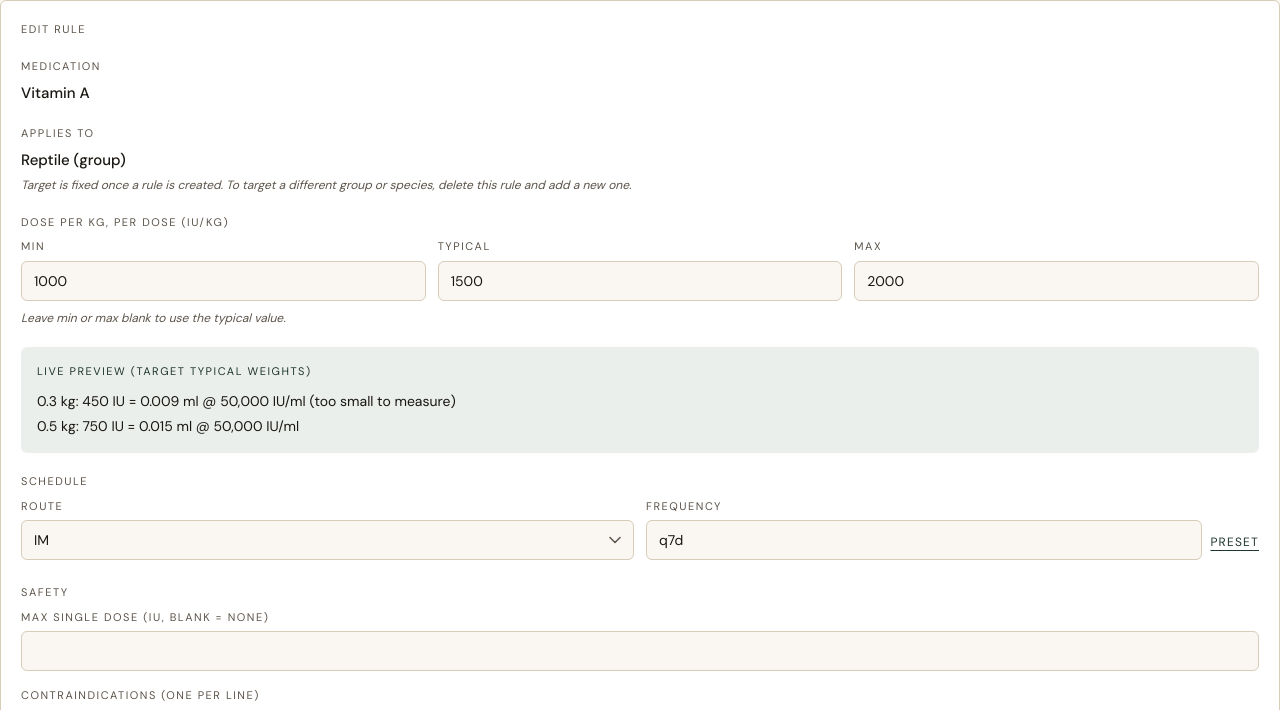
Test: RuleEditor - fields (moved from RulesTab) › rejects unparseable Max instead of saving it as typical
This screenshot has width=1280, height=710.
Replace the text in the field labelled "Max" with "2,000" at point(1057, 280), box 854,260 -> 1259,300
(page scrolled)
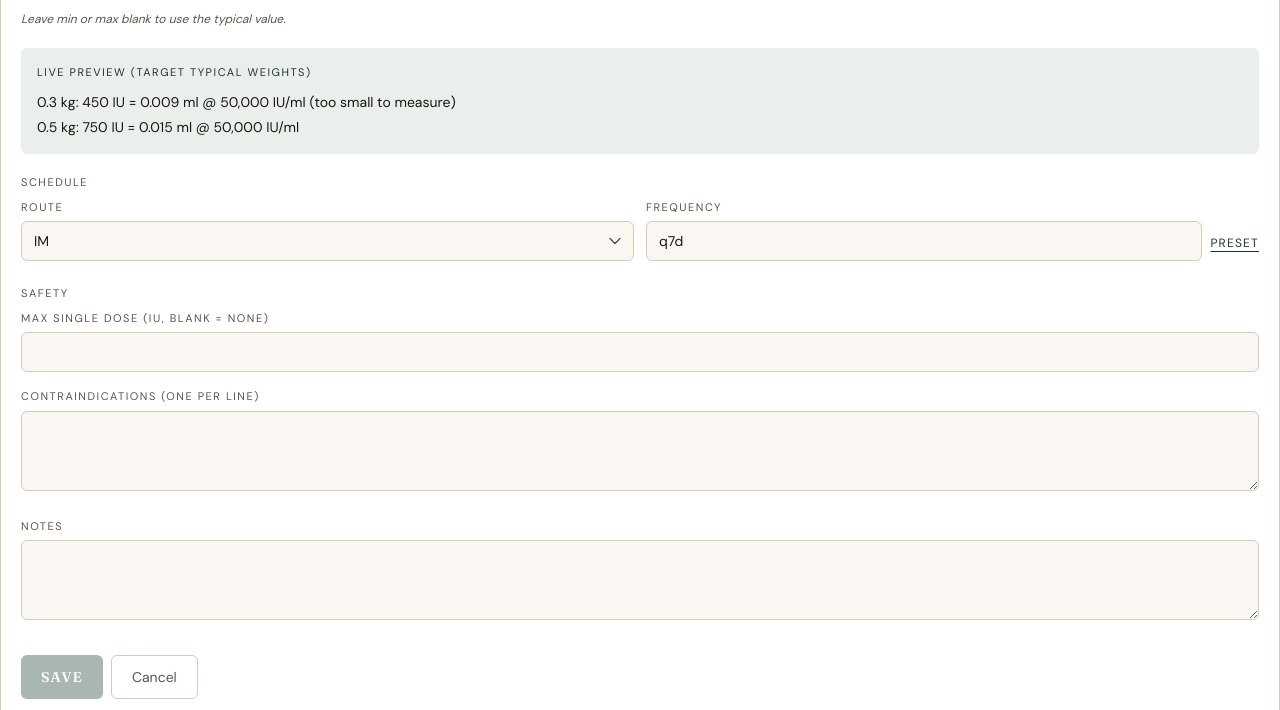
Check: the button "Save" is disabled, box 21,655 -> 103,699
